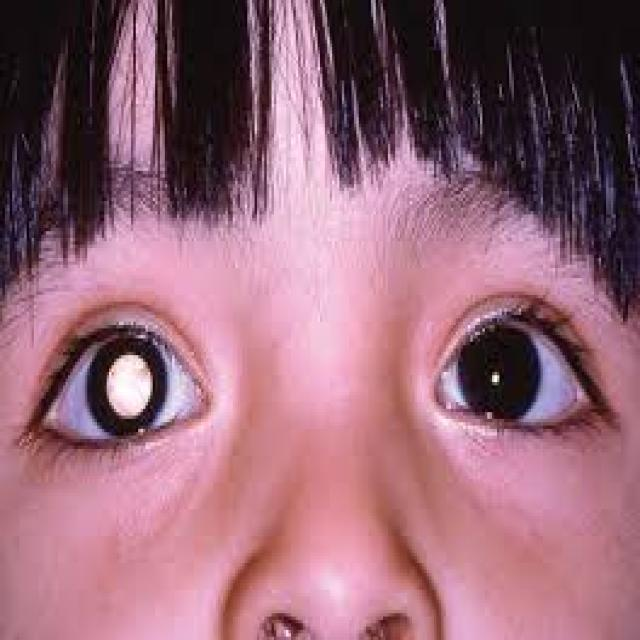reflexo-alterado: (52, 322, 184, 455)
reflexo-normal: (449, 302, 566, 440)
